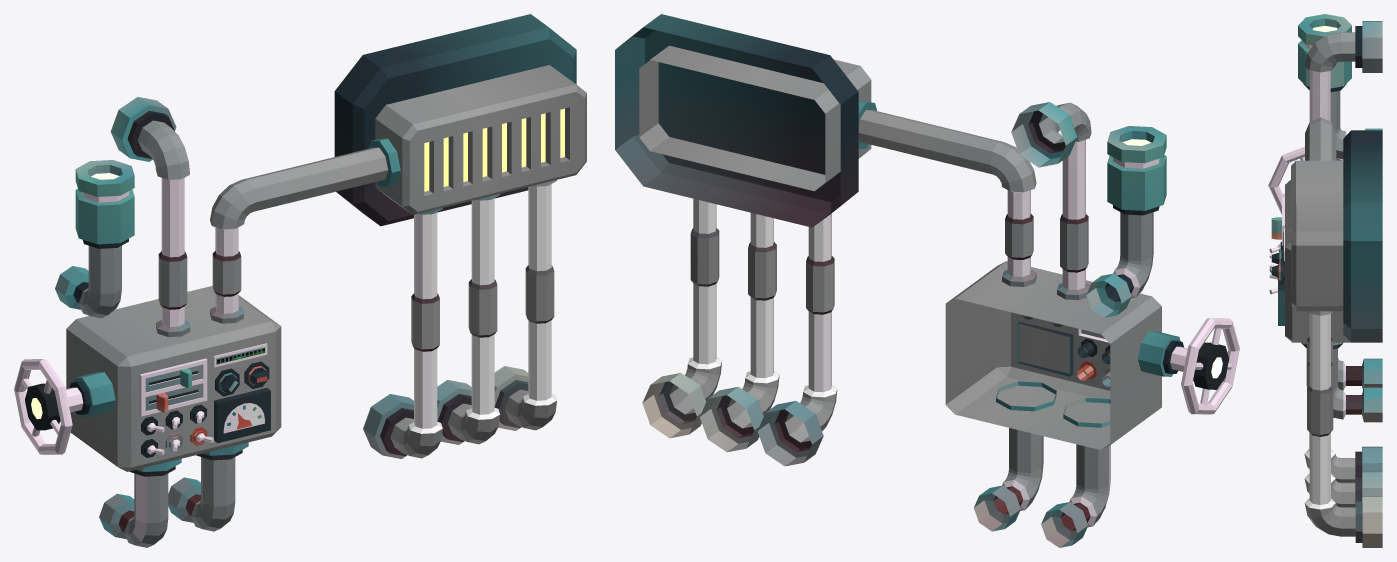
The model's file is Pipe_device_1.fbx.
The picture shows the model from 3 angles, left to right: view 1: azimuth 30°, elevation 25°; view 2: azimuth 150°, elevation 25°; view 3: azimuth 270°, elevation 25°; orthographic projection. The views are drawn at different scales.
Parts seen in each view (by area): view 1: Pipe_device_1; view 2: Pipe_device_1; view 3: Pipe_device_1.
Part boxes in pixels (box(x1,y1,x2,y2)): Pipe_device_1: box(14, 14, 586, 547); Pipe_device_1: box(615, 14, 1239, 547); Pipe_device_1: box(1268, 14, 1382, 547).
Bounding box in the file's own units: 213 × 156 × 42.56.
